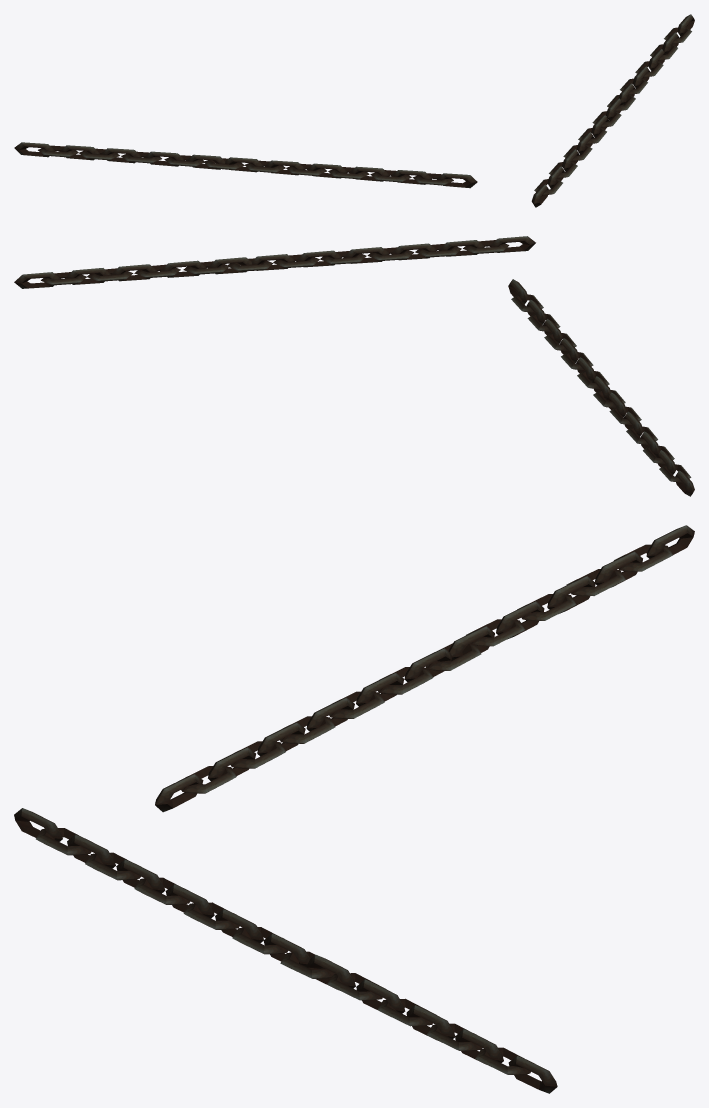
Rendered from sn_zhanshi_taizi01_tielian.FBX.
3 renders of one model, top to bottom at view 1: azimuth 30°, elevation 25°; view 2: azimuth 150°, elevation 25°; view 3: azimuth 270°, elevation 25°, orthographic. The views are drawn at different scales.
Parts seen in each view (by area): view 1: sn_zhanshi_taizi01_tielian; view 2: sn_zhanshi_taizi01_tielian; view 3: sn_zhanshi_taizi01_tielian.
Part boxes in pixels (x1,y1,x2,y2): sn_zhanshi_taizi01_tielian: (14,14,694,207); sn_zhanshi_taizi01_tielian: (14,236,694,496); sn_zhanshi_taizi01_tielian: (14,525,694,1093).
Bounding box in the file's own units: 1008 × 518 × 23.95.
